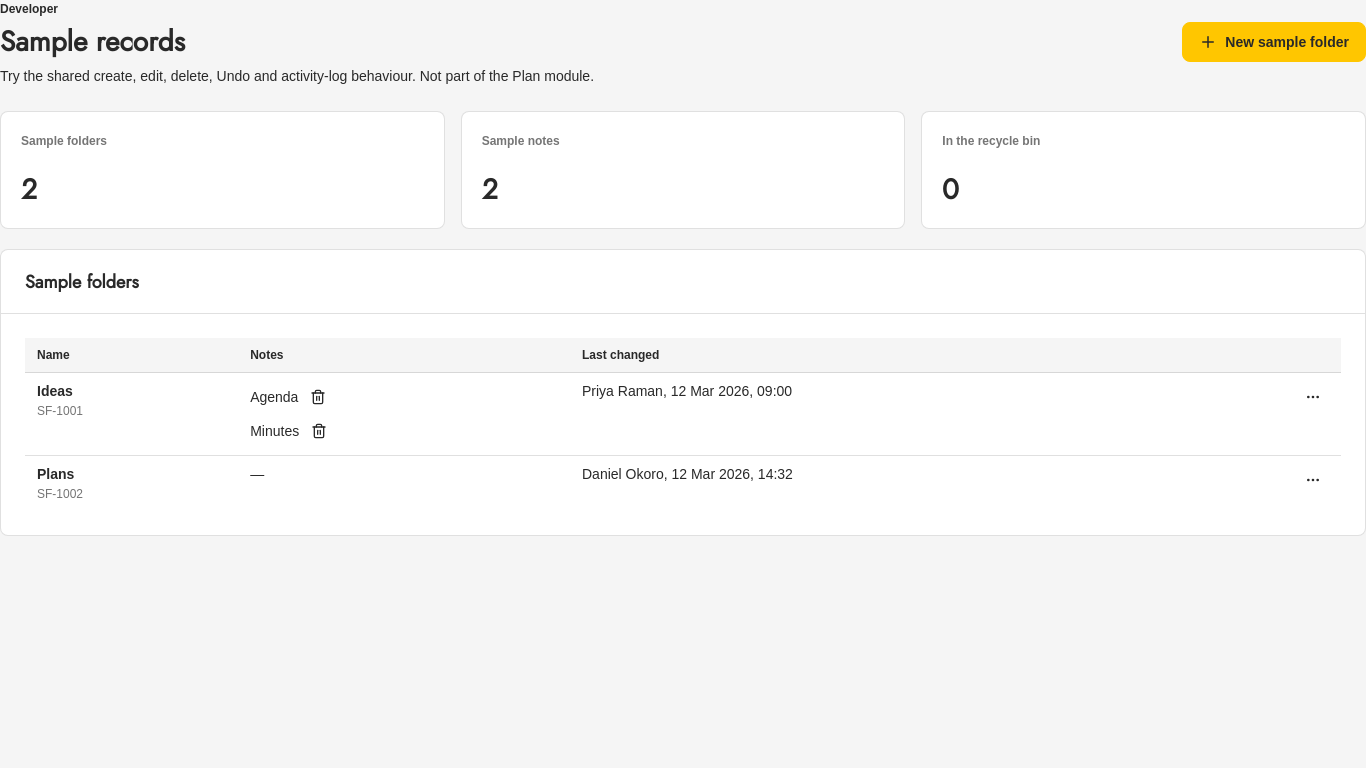
Test: SampleRecordsPage: delete, Undo and restore › deletes a folder with its notes after asking, and offers Undo (FR-024, FR-026, US5)
Expected: the element "Sample folders" is shown, [0,249,1365,536]
Click the button named "Actions for Ideas" at (1313, 397), box [1297,381,1329,413]
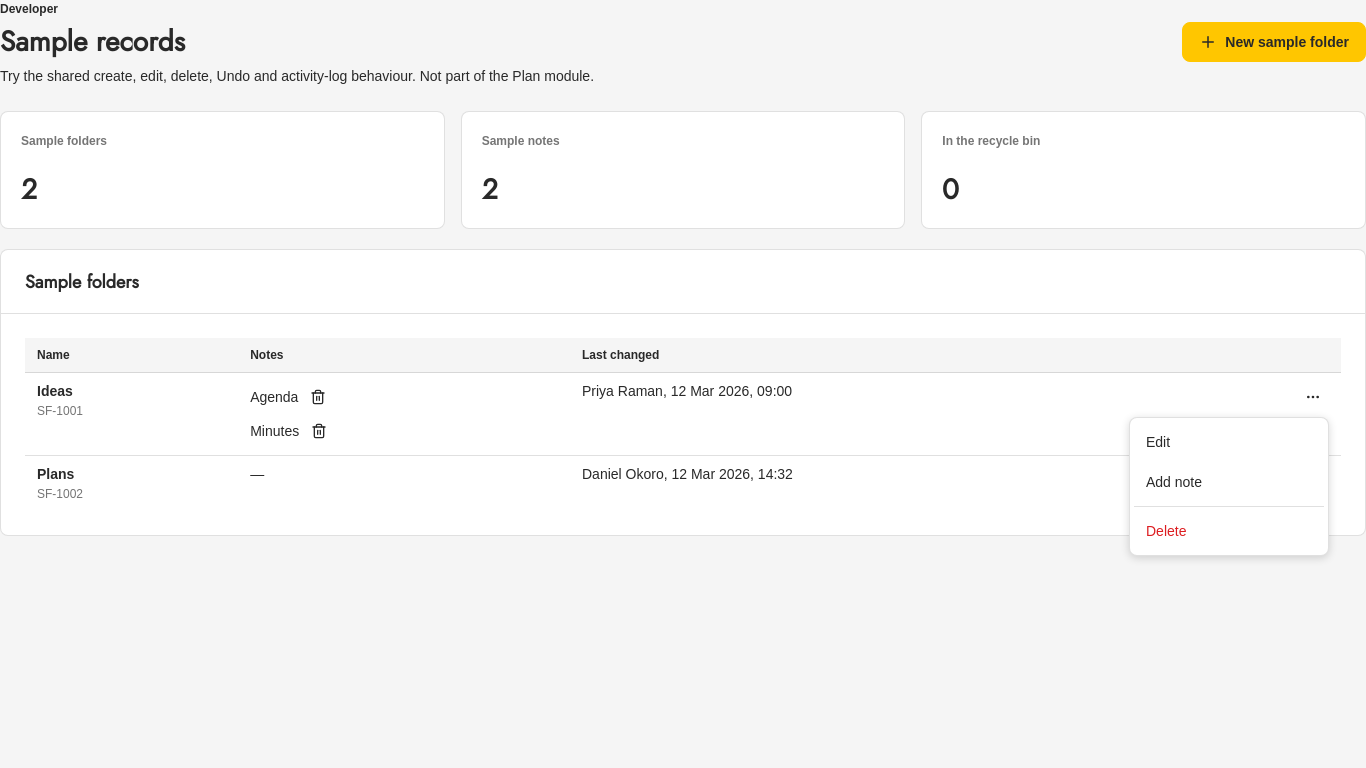
Click the menu item "Delete" at (1166, 531), box [1146,523,1186,539]
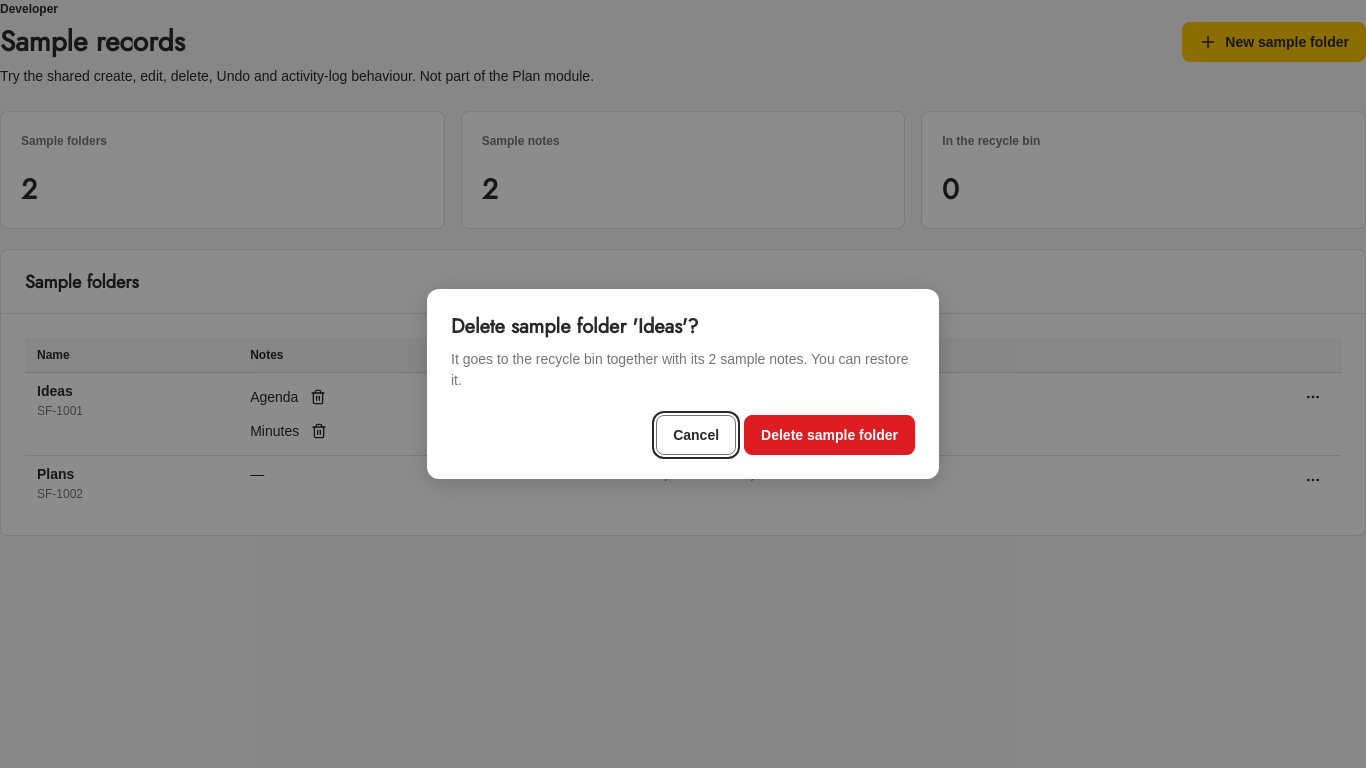
Click the button "Delete sample folder" at (830, 435), box [744,415,915,455]
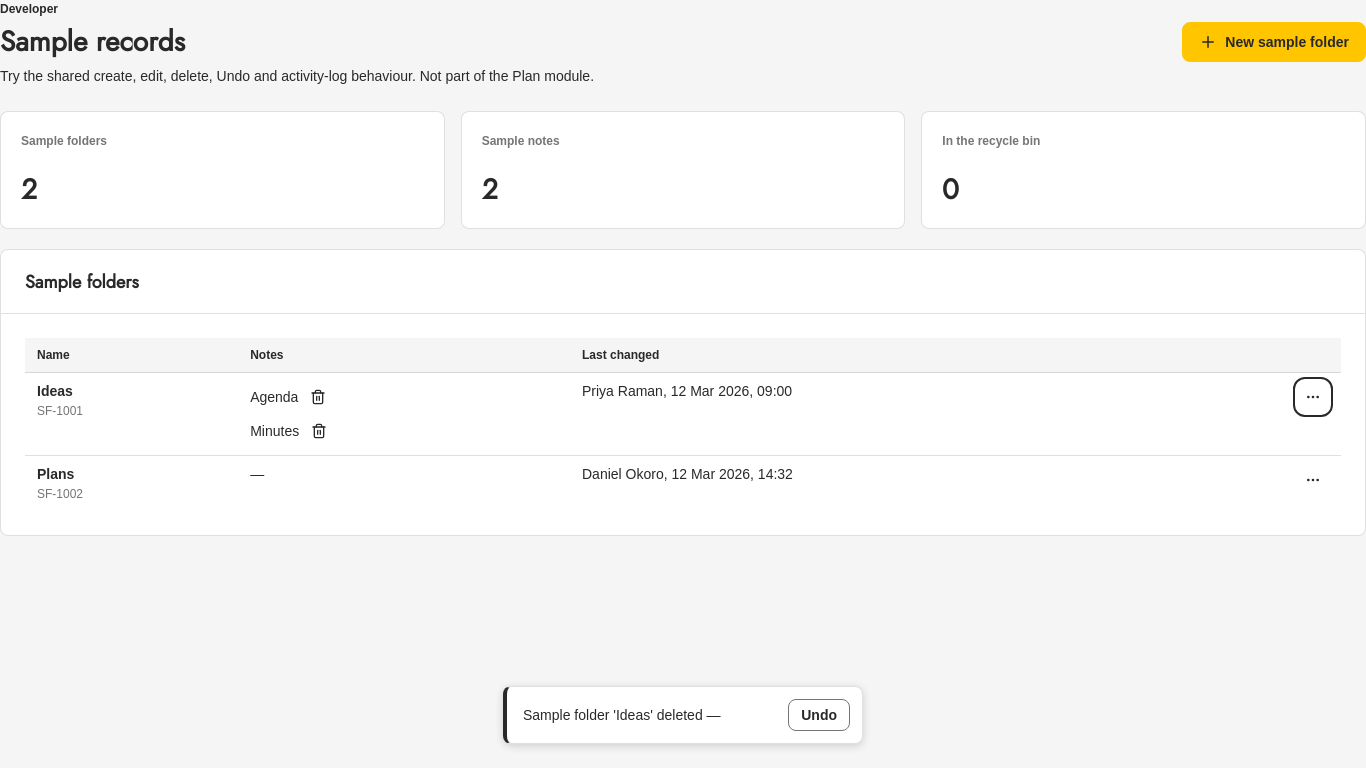
Now the button "Undo" is shown, box [788,699,850,731]
